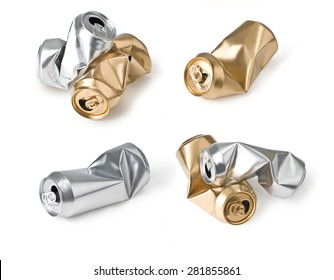can: (40, 141, 151, 219), (175, 133, 260, 227), (183, 20, 278, 101), (70, 33, 153, 121), (35, 10, 117, 91), (200, 140, 306, 202)
